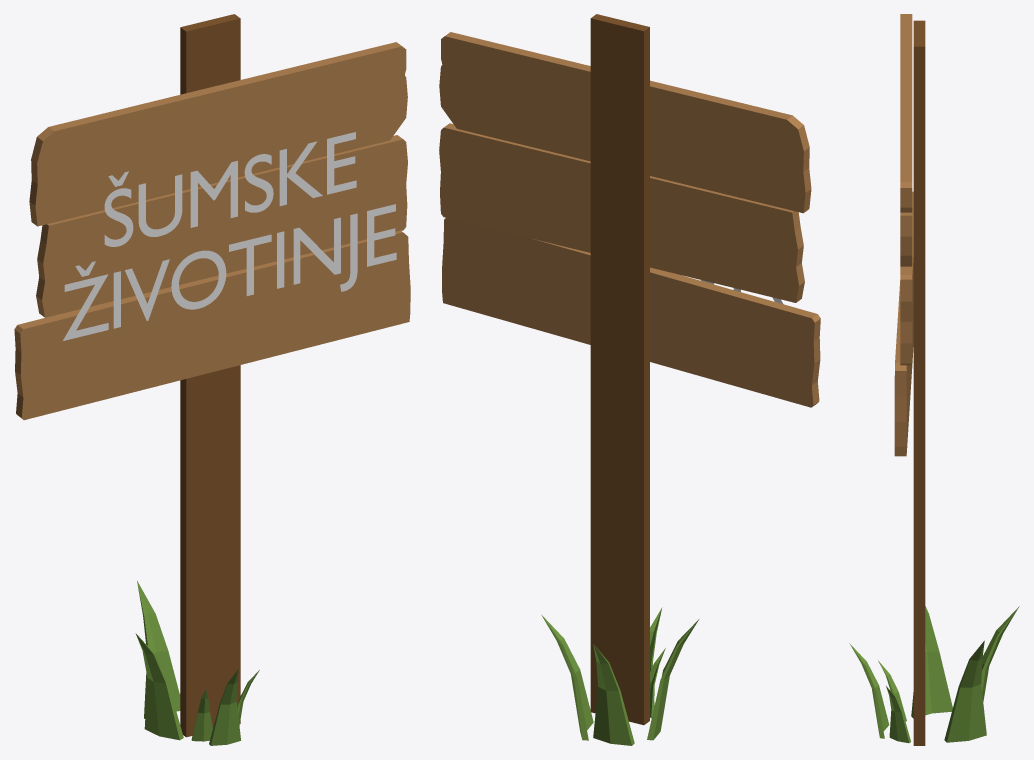
The model's file is sign_sumske_zivotinje.fbx.
3 views of the same model, side by side, from view 1: azimuth 30°, elevation 25°; view 2: azimuth 150°, elevation 25°; view 3: azimuth 270°, elevation 25° (orthographic).
Parts seen in each view (by area): view 1: Sign7, Text; view 2: Sign7; view 3: Sign7.
Part boxes in pixels (box(x1,y1,x2,y2)): Sign7: box(14, 14, 410, 745); Text: box(63, 132, 396, 340); Sign7: box(439, 14, 820, 745); Sign7: box(849, 14, 1019, 745).
Bounding box in the file's own units: 113 × 198 × 43.85.
